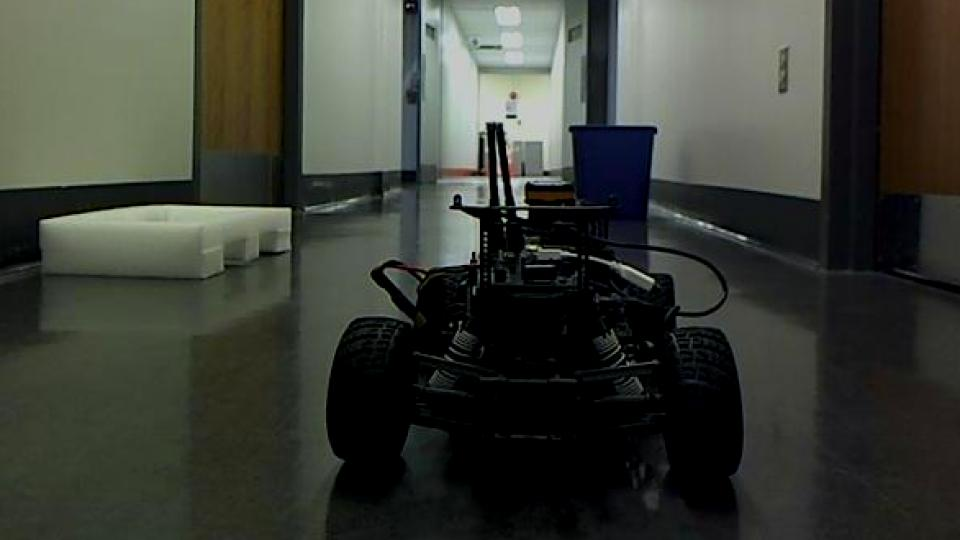car: (323, 120, 749, 491)
